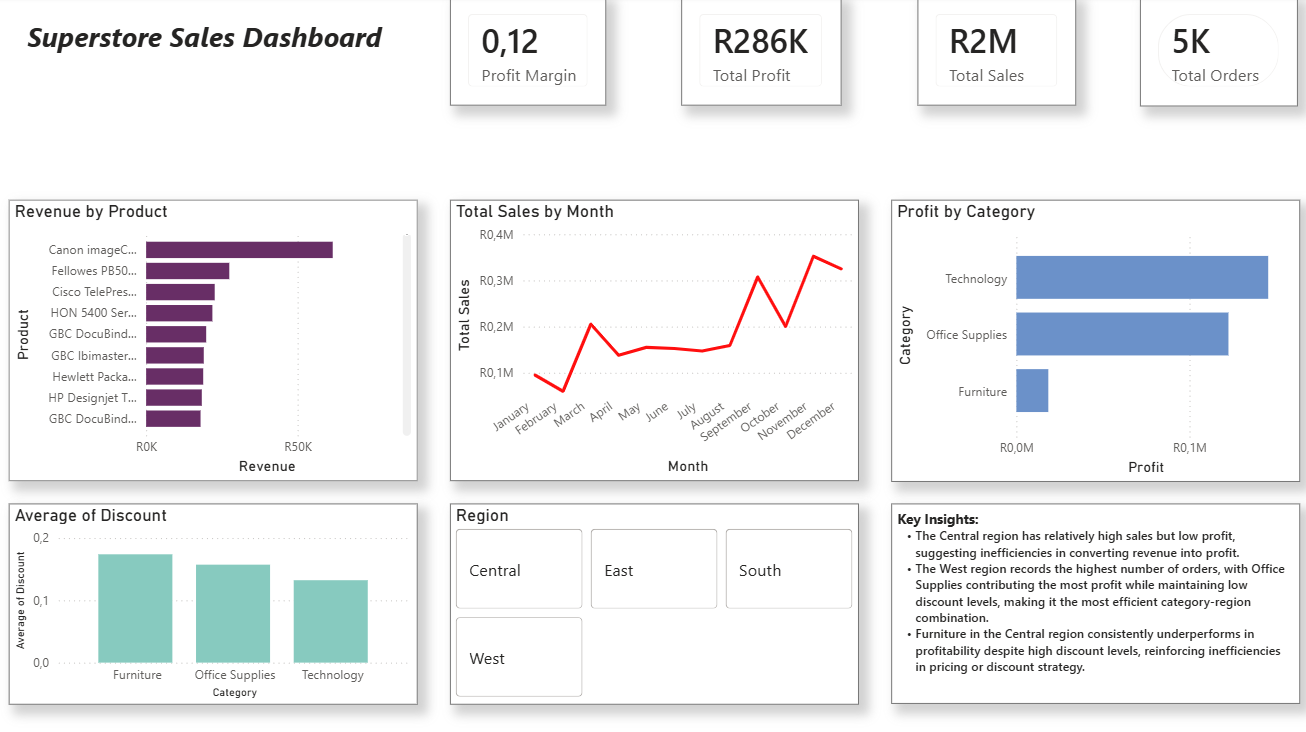

Layout of this report page (visuals, bound fields, positions):
{"tool":"powerbi","page":{"name":"A Sales Performance Dashboard for a Retail Business","canvas":[1280,720],"ordinal":0},"visuals":[{"type":"clusteredBarChart","fields":{"Category":["Sample - Superstore.Product Name"],"Y":["Sum(Sample - Superstore.Sales - Copy)"]},"box":[0,199.9,400,275],"z":0},{"type":"lineChart","fields":{"Category":["Sample - Superstore.Order Date.Variation.Date Hierarchy.Year","Sample - Superstore.Order Date.Variation.Date Hierarchy.Quarter","Sample - Superstore.Order Date.Variation.Date Hierarchy.Month","Sample - Superstore.Order Date.Variation.Date Hierarchy.Day"],"Y":["Sum(Sample - Superstore.Sales - Copy)"]},"box":[440,199.9,400,275],"z":1000},{"type":"clusteredBarChart","fields":{"Y":["Sum(Sample - Superstore.Profit - Copy)"],"Category":["Sample - Superstore.Category"]},"box":[880,199.5,400,275.7],"z":2000},{"type":"cardVisual","fields":{"Data":["Sample - Superstore.Profit Margin"]},"box":[440,0,153.1,98.7],"z":3000,"group":"g1"},{"type":"advancedSlicerVisual","fields":{"Values":["Sample - Superstore.Region"]},"box":[440,496.4,400,196.6],"z":3000},{"type":"cardVisual","fields":{"Data":["Sample - Superstore.Total Profit"]},"box":[666.7,0,156.5,98.7],"z":4000,"group":"g1"},{"type":"clusteredColumnChart","fields":{"Category":["Sample - Superstore.Category"],"Y":["Avg(Sample - Superstore.Discount)"]},"box":[0,496.4,400,196.6],"z":4000},{"type":"cardVisual","fields":{"Data":["Sample - Superstore.Total Sales"]},"box":[896.8,0,155.4,98.7],"z":5000,"group":"g1"},{"type":"textbox","box":[880,496.2,400,196.2],"z":5000},{"type":"group","id":"g1","title":"Group 1","box":[440,0,840,98.8],"z":6000},{"type":"cardVisual","fields":{"Data":["Sample - Superstore.Total Orders"]},"box":[1125.8,0,154.2,98.7],"z":6000,"group":"g1"},{"type":"textbox","box":[0,16.2,400,82.5],"z":6001}]}

Visuals, with their boxes in screenshot pixels (x1, y1, x2, y2), scaled from the page's 1280x720 canvas onto the 1306x732 screenshot:
clusteredBarChart - Sample - Superstore.Product Name x Sum(Sample - Superstore.Sales - Copy): bbox=(0, 203, 408, 483)
lineChart - Sample - Superstore.Order Date.Variation.Date Hierarchy.Year x Sample - Superstore.Order Date.Variation.Date Hierarchy.Quarter: bbox=(449, 203, 857, 483)
clusteredBarChart - Sum(Sample - Superstore.Profit - Copy) x Sample - Superstore.Category: bbox=(898, 203, 1305, 483)
cardVisual - Sample - Superstore.Profit Margin: bbox=(449, 0, 605, 100)
advancedSlicerVisual - Sample - Superstore.Region: bbox=(449, 505, 857, 705)
cardVisual - Sample - Superstore.Total Profit: bbox=(680, 0, 840, 100)
clusteredColumnChart - Sample - Superstore.Category x Avg(Sample - Superstore.Discount): bbox=(0, 505, 408, 705)
cardVisual - Sample - Superstore.Total Sales: bbox=(915, 0, 1074, 100)
textbox: bbox=(898, 504, 1305, 704)
"Group 1" group: bbox=(449, 0, 1305, 100)
cardVisual - Sample - Superstore.Total Orders: bbox=(1149, 0, 1305, 100)
textbox: bbox=(0, 16, 408, 100)
